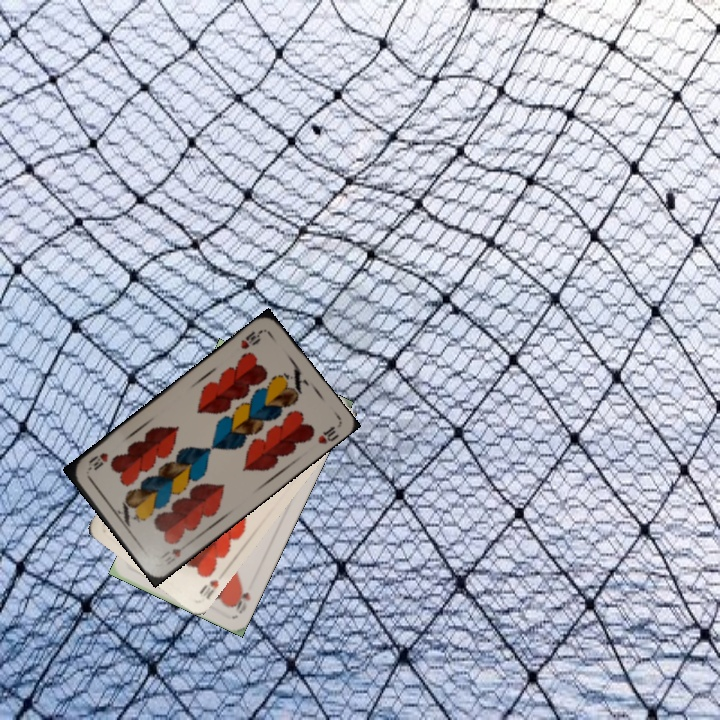H10: (236, 326, 265, 352), (195, 575, 221, 602), (156, 544, 184, 568)
HO: (229, 582, 253, 616)
